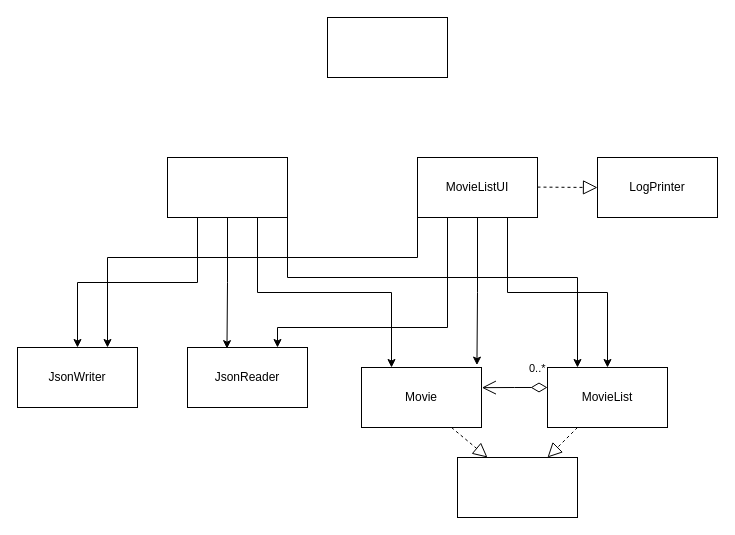
Some shapes in this 735 by 535 pixel diagram are drawn without their labels. Each missing label, with the centre of its shape:
<<Interface>> Writable: the point at 517,487
Main: the point at 387,47
MovieListApp: the point at 227,187
